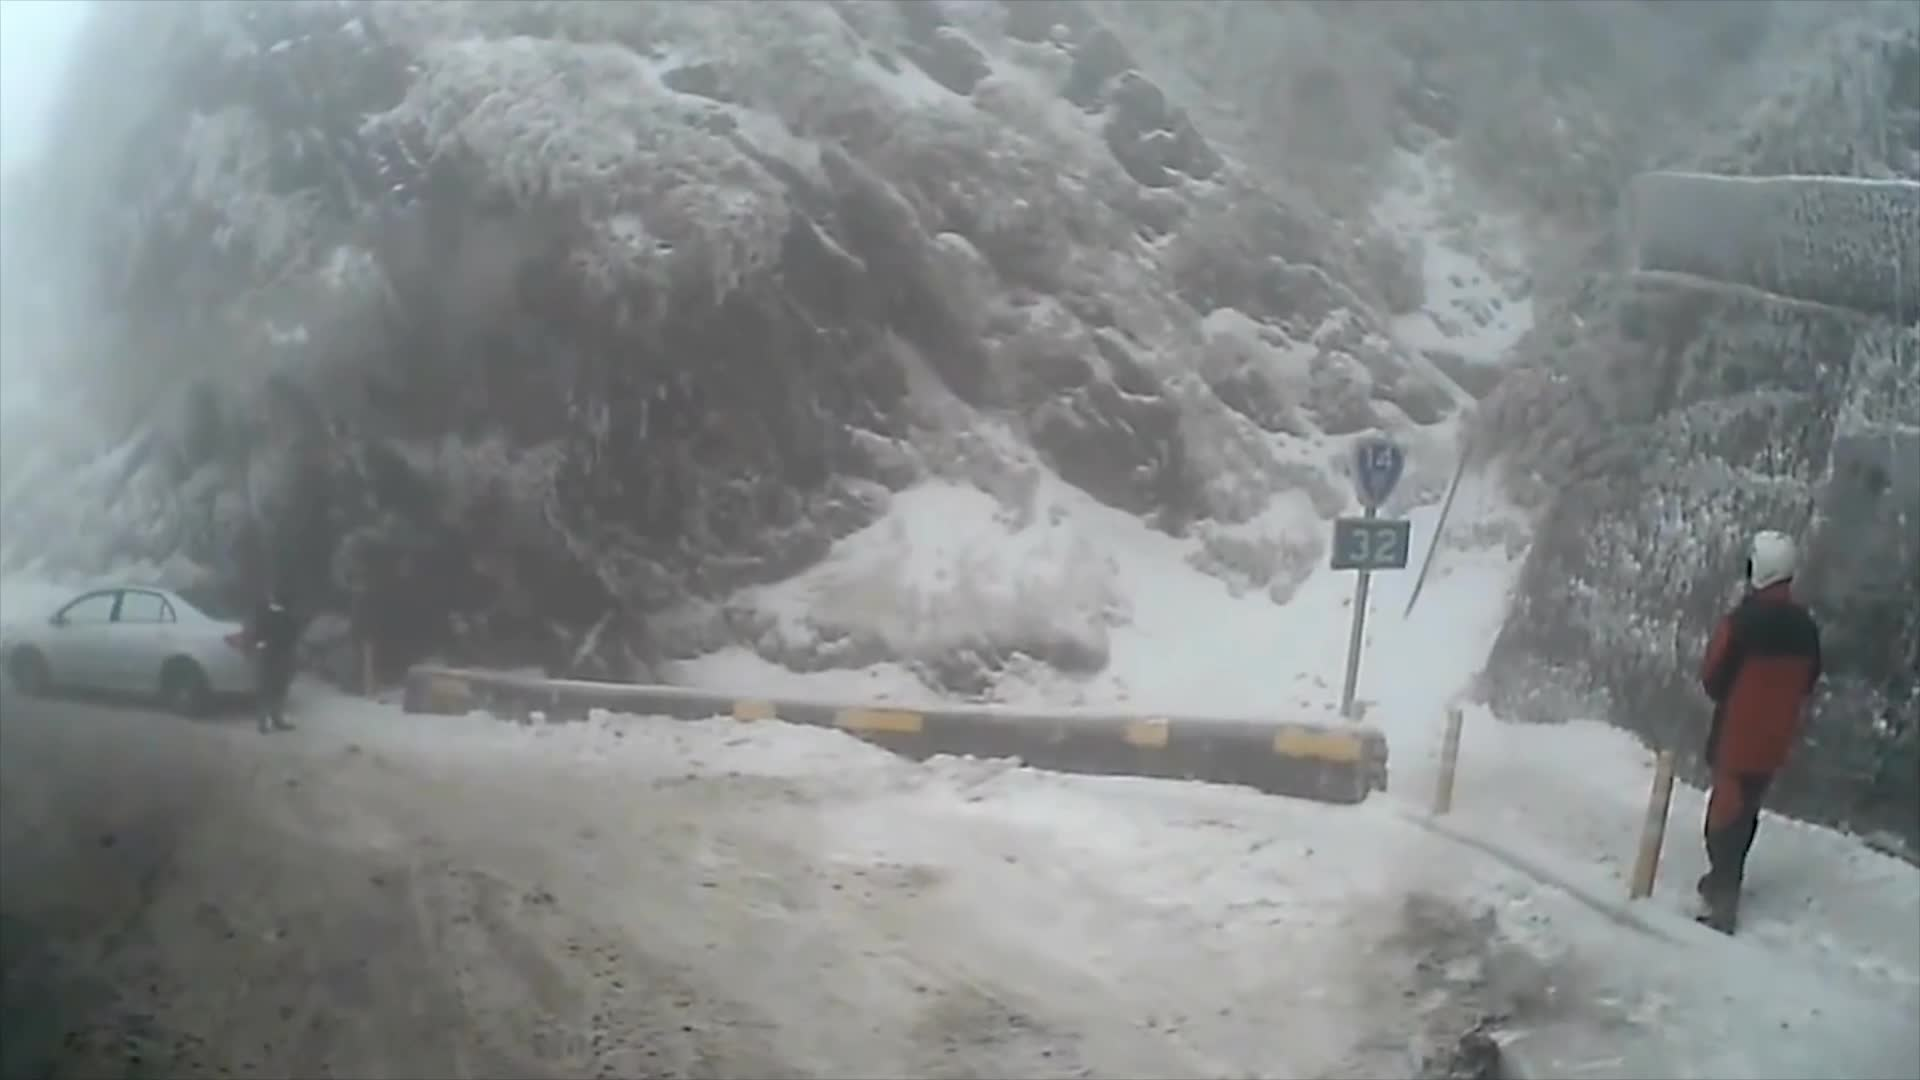pedestrian: (1686, 528, 1832, 935), (257, 584, 304, 728)
vehicle: (0, 580, 276, 717)
